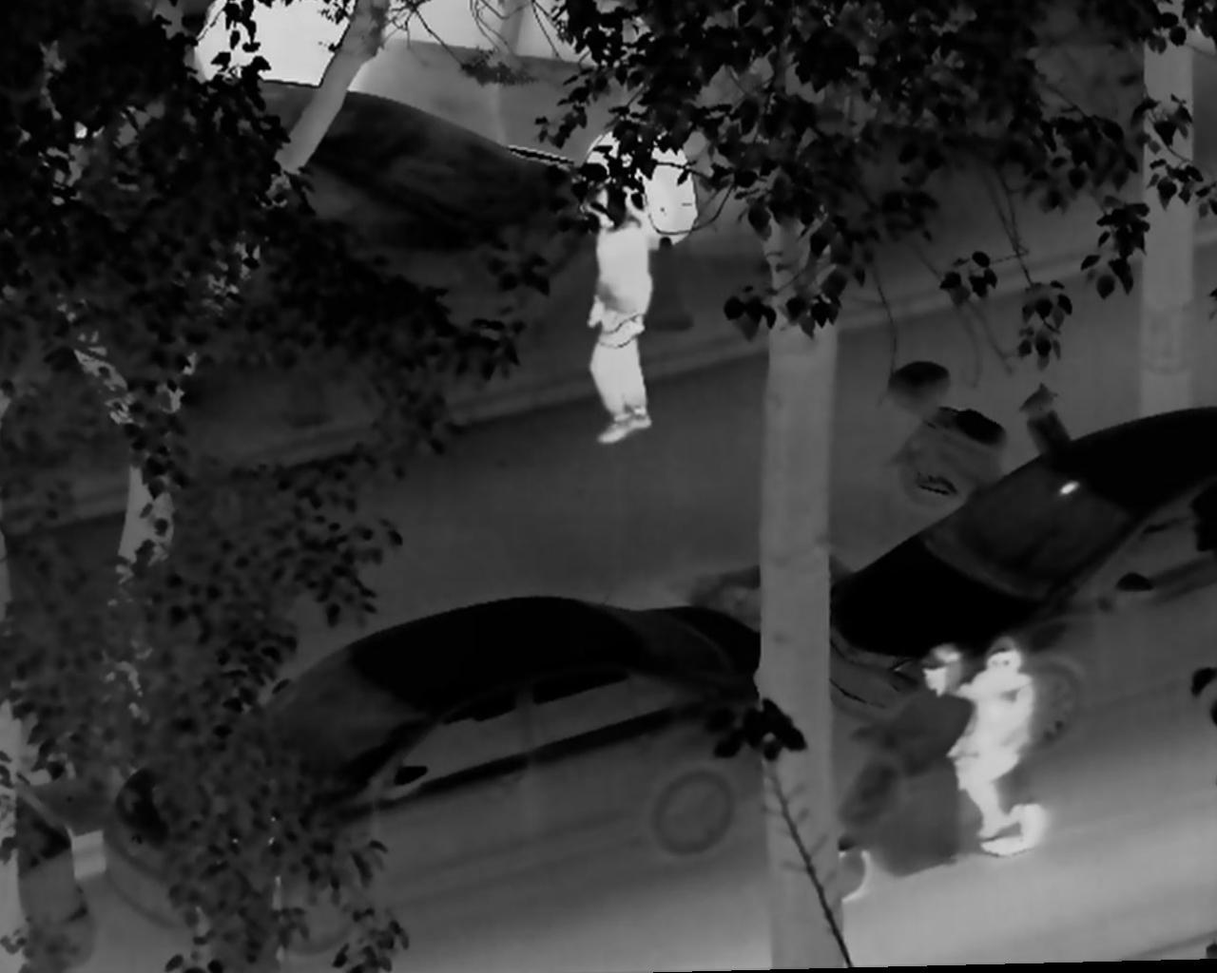person: (570, 183, 656, 454), (965, 627, 1036, 845), (913, 636, 991, 802)
